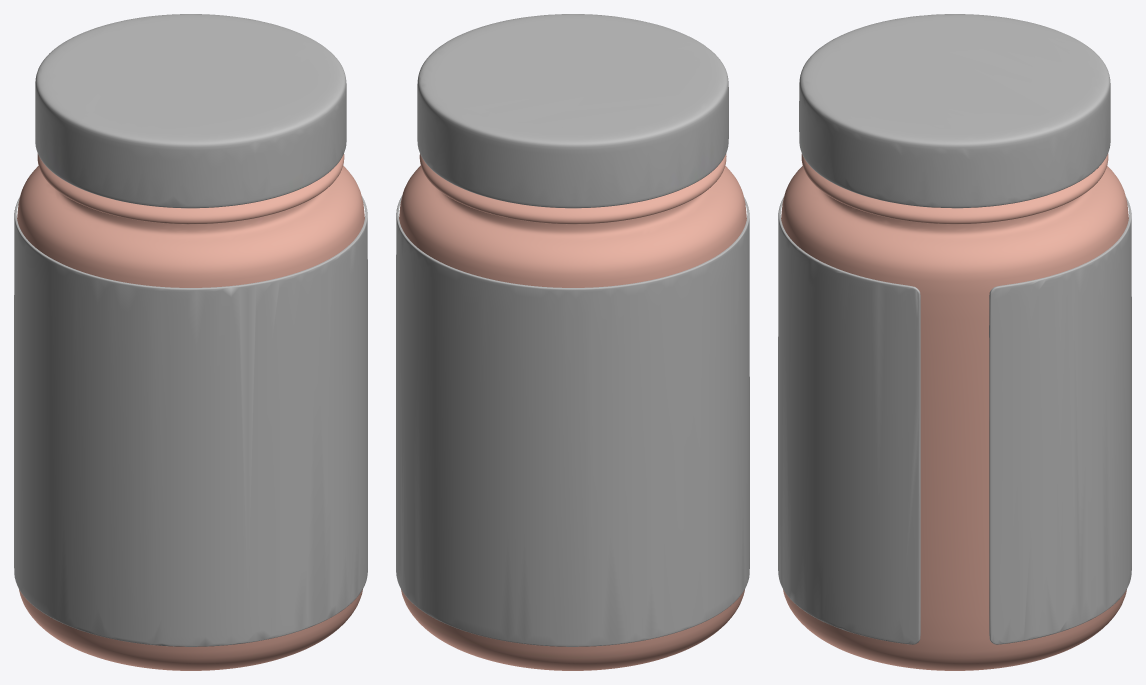
File: glass-jar-2.min.glb
3 renders of one model, left to right at view 1: azimuth 30°, elevation 25°; view 2: azimuth 150°, elevation 25°; view 3: azimuth 270°, elevation 25°, orthographic.
Visible parts, largest first — view 1: bottle; view 2: bottle; view 3: bottle.
Boxes of the visible parts, box(x1,y1,x2,y2) form: bottle: box(14, 14, 367, 670); bottle: box(396, 14, 749, 670); bottle: box(778, 14, 1131, 670).
Bounding box in the file's own units: 0.0545 × 0.0911 × 0.0546.
1 material, 1 textured.
